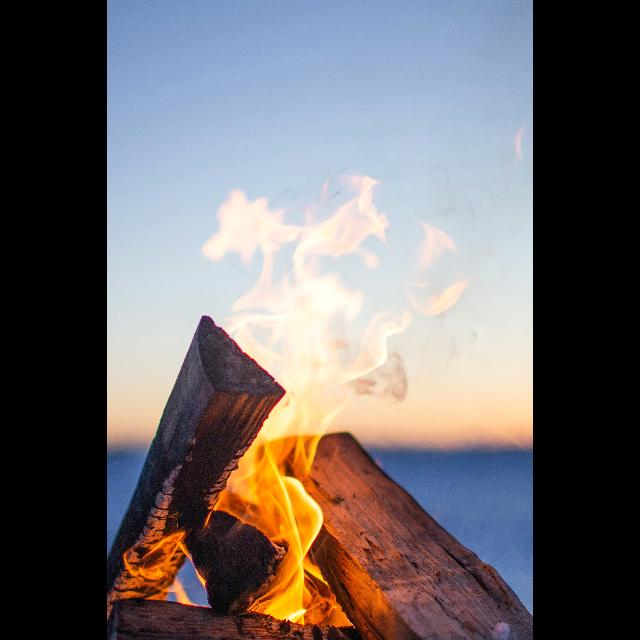fire: (107, 178, 409, 625)
